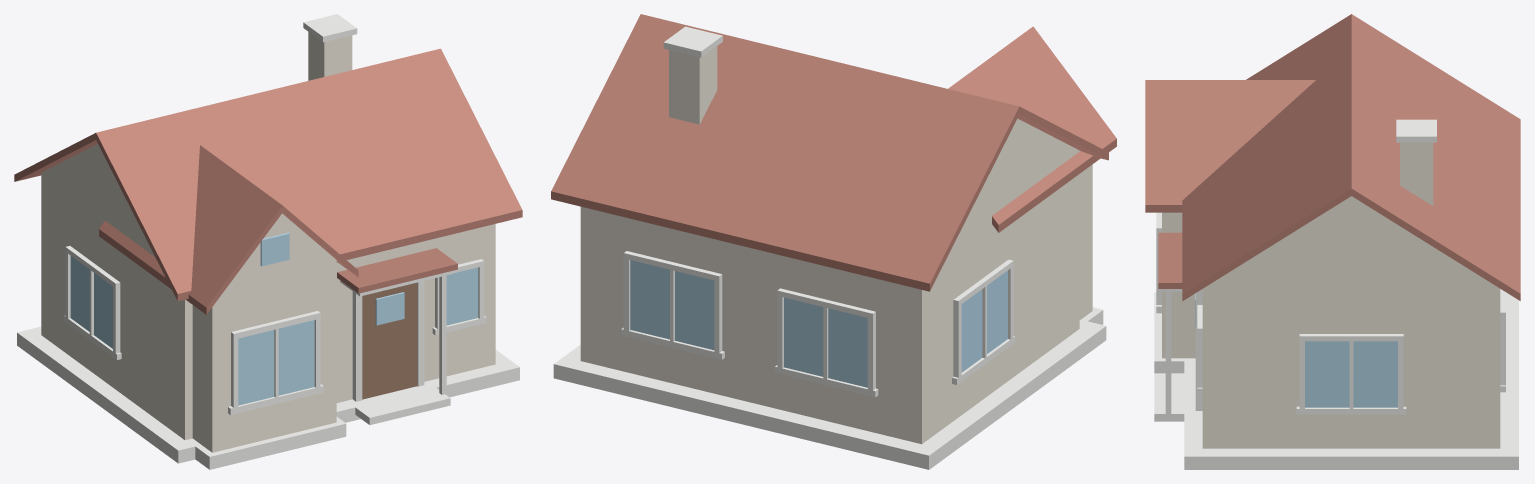
The model's file is rumah_d.fbx.
3 views of the same model, side by side, from view 1: azimuth 30°, elevation 25°; view 2: azimuth 150°, elevation 25°; view 3: azimuth 270°, elevation 25° (orthographic). The views are drawn at different scales.
Parts seen in each view (by area): view 1: ShellRoof, ShellWall, ShellTrim, ShellGlass, ShellDoor; view 2: ShellRoof, ShellWall, ShellTrim, ShellGlass; view 3: ShellRoof, ShellWall, ShellTrim, ShellGlass.
Boxes of the visible parts, x1,y1,x2,y2 form: ShellRoof: (14, 48, 522, 314); ShellWall: (41, 32, 495, 452); ShellTrim: (17, 14, 519, 469); ShellGlass: (70, 232, 478, 405); ShellDoor: (362, 282, 417, 399); ShellRoof: (551, 14, 1116, 291); ShellWall: (580, 46, 1092, 444); ShellTrim: (553, 26, 1106, 469); ShellGlass: (630, 260, 1007, 387); ShellRoof: (1145, 14, 1520, 301); ShellWall: (1162, 142, 1500, 448); ShellTrim: (1154, 119, 1518, 469); ShellGlass: (1195, 293, 1397, 407).
Size of the model in its own units: 22.2 by 17.95 by 20.2.
